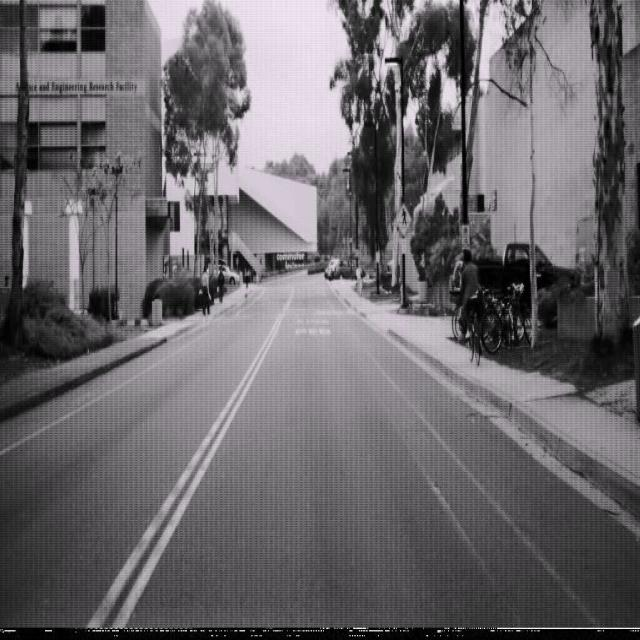pedestrianCrossing: (396, 202, 411, 234)
